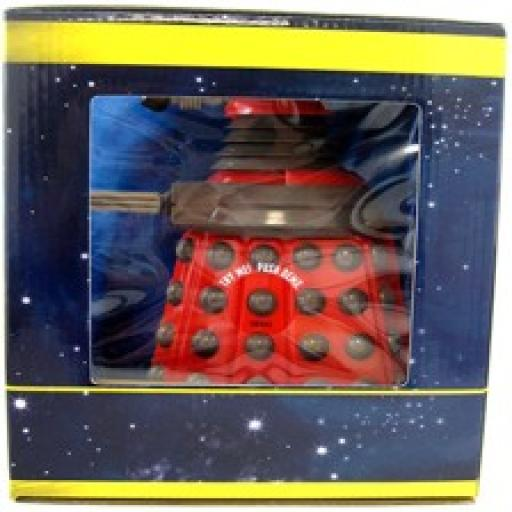dalek: (141, 89, 413, 394)
